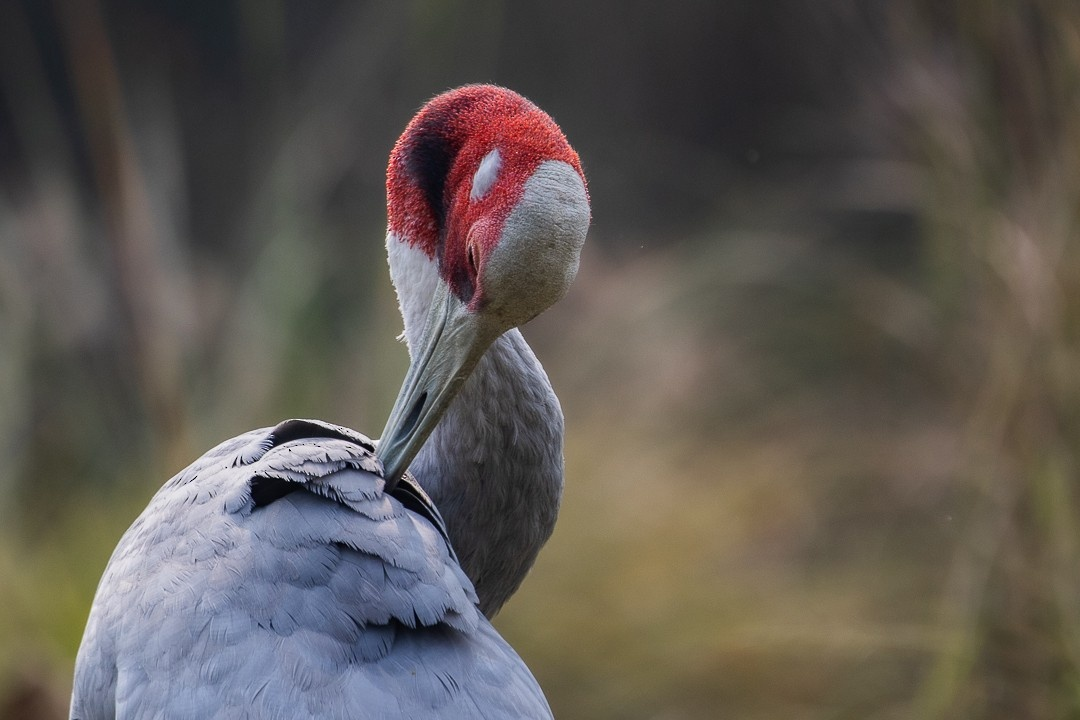crane: (66, 67, 618, 720)
